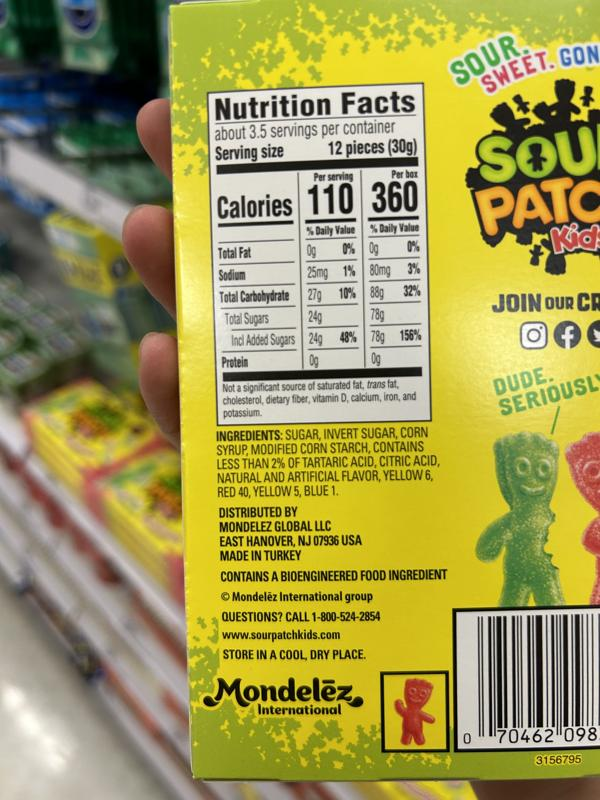ingredients: (213, 423, 442, 500)
